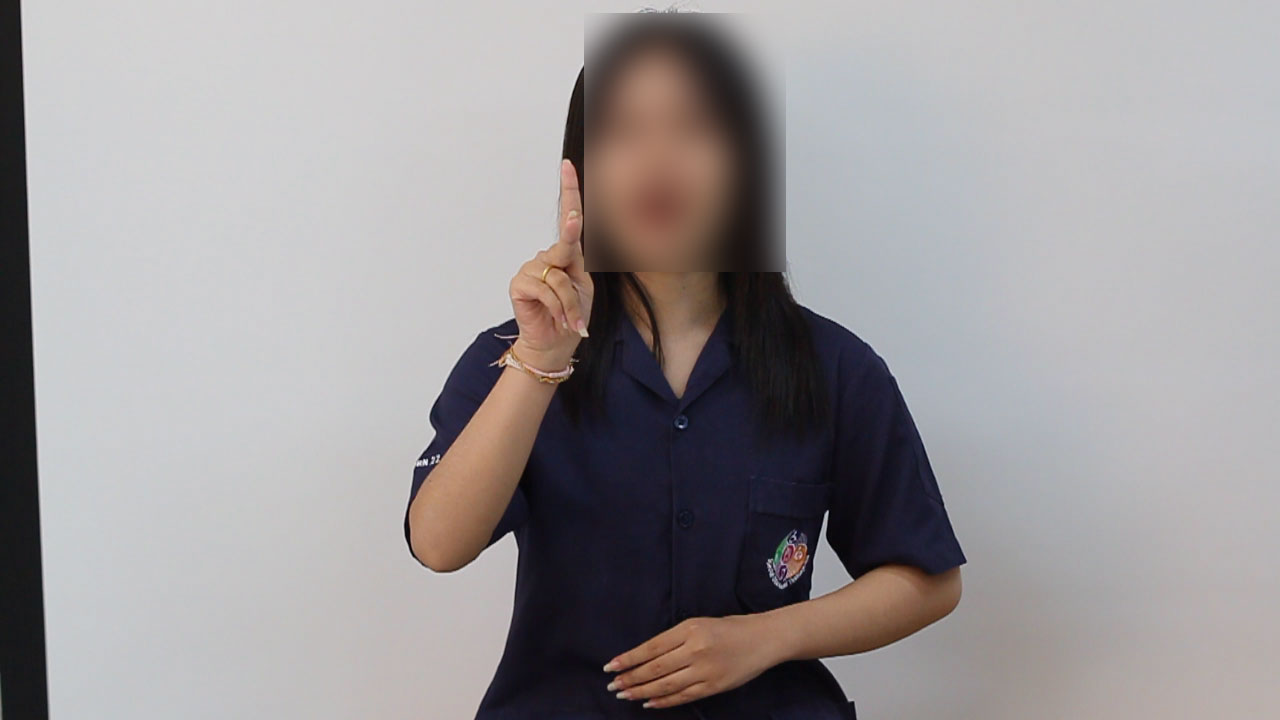ko: (456, 159, 625, 383)
